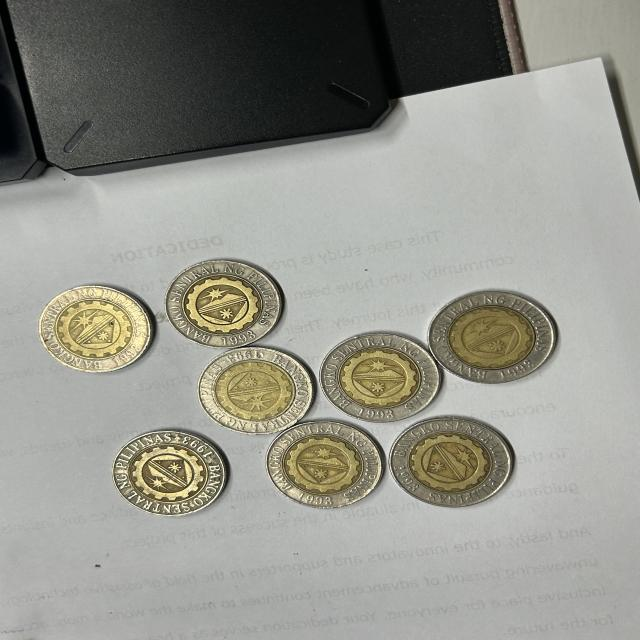10_Old_Back: (437, 296, 550, 376), (397, 425, 509, 503), (39, 292, 145, 365), (331, 339, 428, 414), (113, 439, 214, 511), (170, 265, 274, 332), (214, 353, 310, 424), (285, 426, 372, 499), (126, 344, 129, 346)
